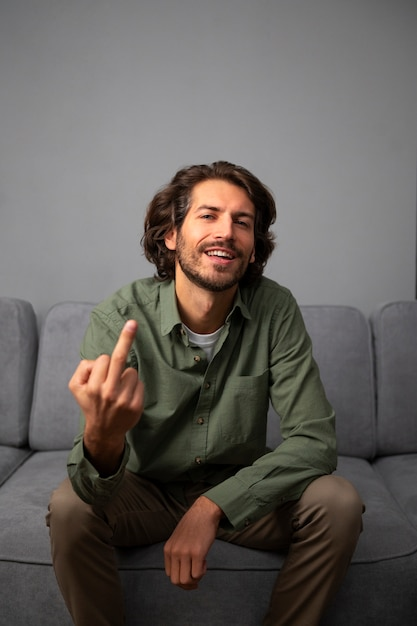insulting_gesture: (65, 314, 150, 452)
